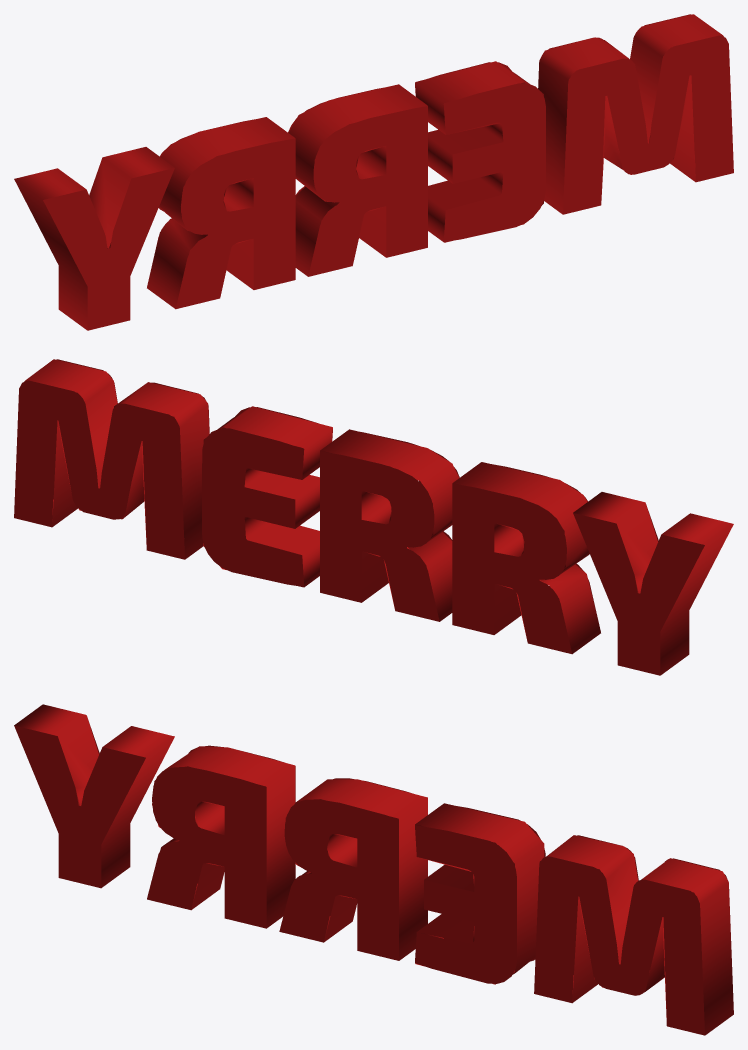
The model's file is merry.fbx.
3 views of the same model, one above another, from view 1: azimuth 30°, elevation 25°; view 2: azimuth 150°, elevation 25°; view 3: azimuth 330°, elevation 25° (orthographic).
Parts seen in each view (by area): view 1: Text; view 2: Text; view 3: Text.
Boxes of the visible parts, x1,y1,x2,y2 form: Text: (14, 14, 733, 330); Text: (14, 359, 733, 675); Text: (14, 704, 733, 1035).
Size of the model in its own units: 11.04 by 2.21 by 0.8.
